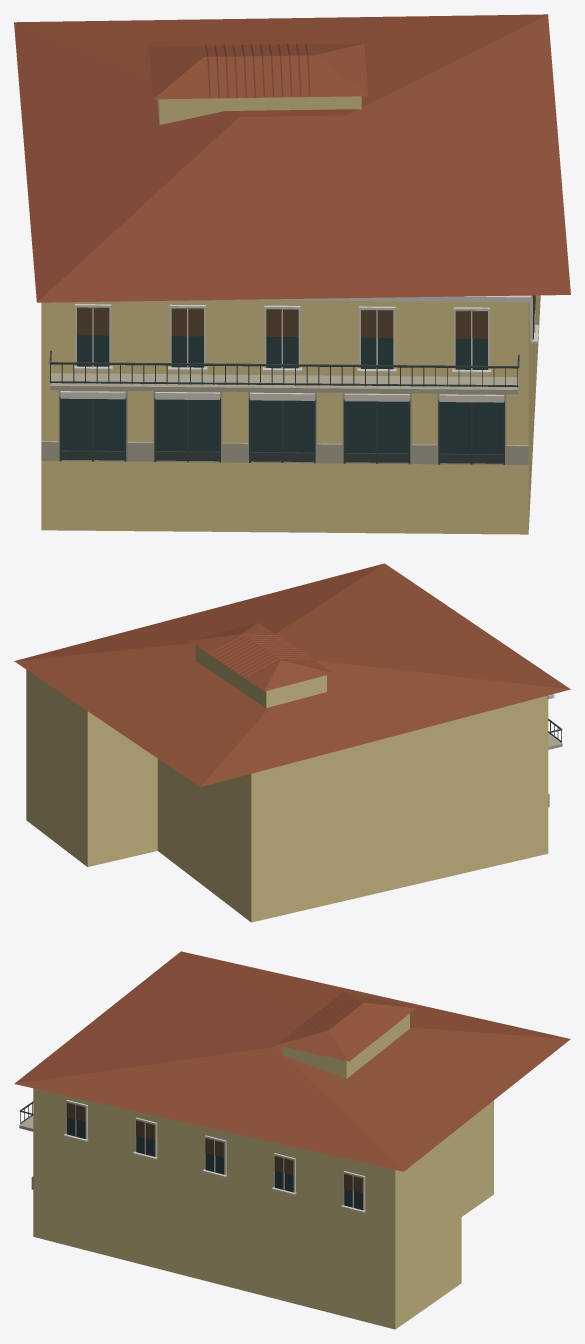
Rendered from casa-ocra.glb.
The picture shows the model from 3 angles, top to bottom: view 1: azimuth 30°, elevation 25°; view 2: azimuth 150°, elevation 25°; view 3: azimuth 270°, elevation 25°; orthographic projection. The views are drawn at different scales.
Size of the model in its own units: 30.21 by 13.43 by 32.28.
